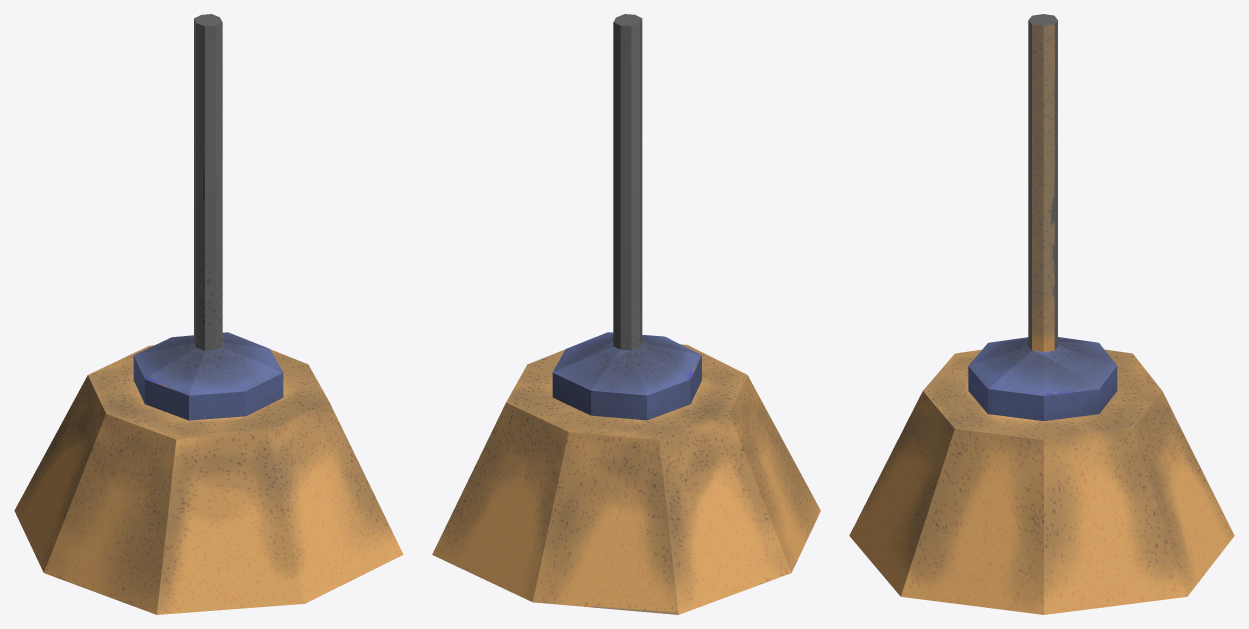
Rendered from Lamp.fbx.
The picture shows the model from 3 angles, left to right: view 1: azimuth 30°, elevation 25°; view 2: azimuth 150°, elevation 25°; view 3: azimuth 270°, elevation 25°; orthographic projection.
Parts seen in each view (by area): view 1: Cube; view 2: Cube; view 3: Cube.
Part boxes in pixels (<box>): Cube: <box>14,14,403,614</box>; Cube: <box>432,14,820,614</box>; Cube: <box>849,14,1234,614</box>.
Bounding box in the file's own units: 264 × 397 × 269.
